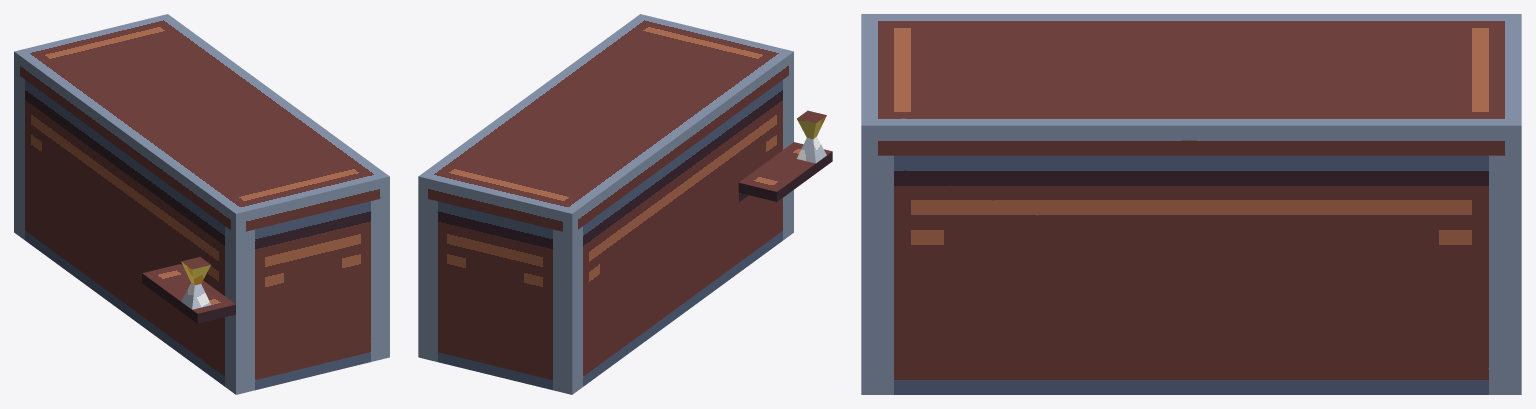
File: RustRemover.gltf
3 renders of one model, left to right at view 1: azimuth 30°, elevation 25°; view 2: azimuth 150°, elevation 25°; view 3: azimuth 270°, elevation 25°, orthographic. The views are drawn at different scales.
Visible parts, largest first — view 1: Body, Lid, HourGlass; view 2: Body, Lid, HourGlass; view 3: Body, Lid.
Part boxes in pixels (box(x1,y1,x2,y2)): Body: box(14, 72, 389, 394); Lid: box(14, 14, 389, 233); HourGlass: box(181, 257, 210, 309); Body: box(418, 72, 832, 394); Lid: box(418, 14, 793, 233); HourGlass: box(797, 110, 826, 163); Body: box(861, 155, 1521, 394); Lid: box(861, 14, 1521, 155).
Bounding box in the file's own units: 1.25 × 1.12 × 2.5.
Materials: 1 (1 with a texture image).
